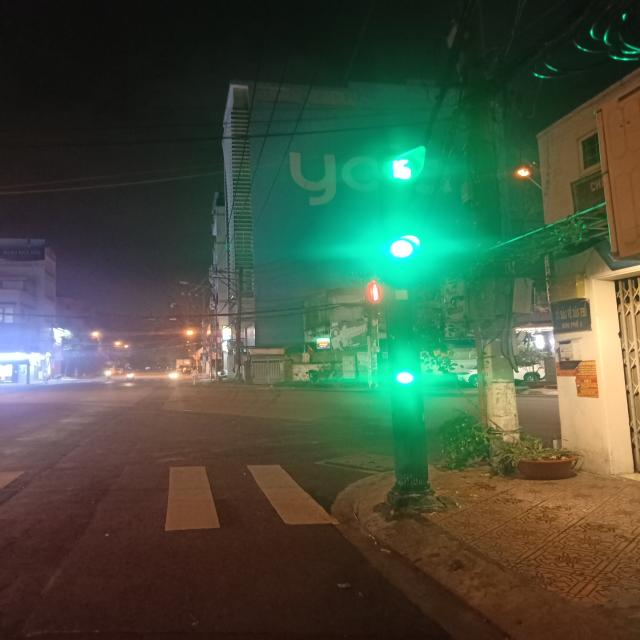Green: (375, 185, 424, 266), (379, 328, 419, 391)
